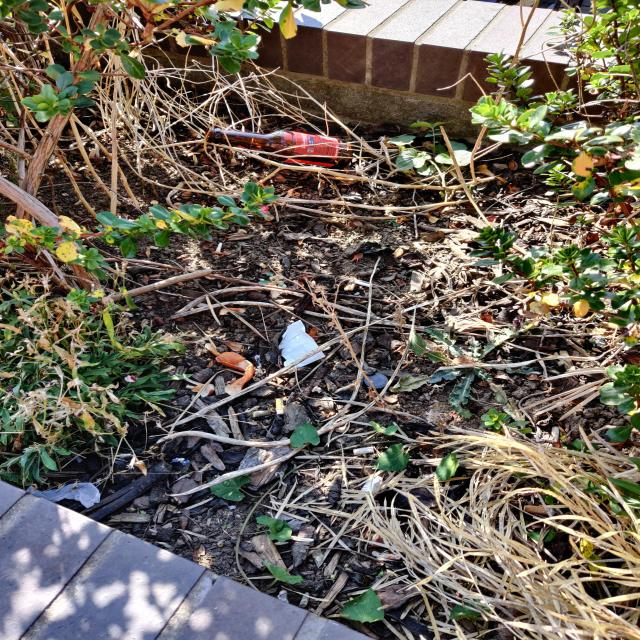litter: (208, 128, 351, 367)
